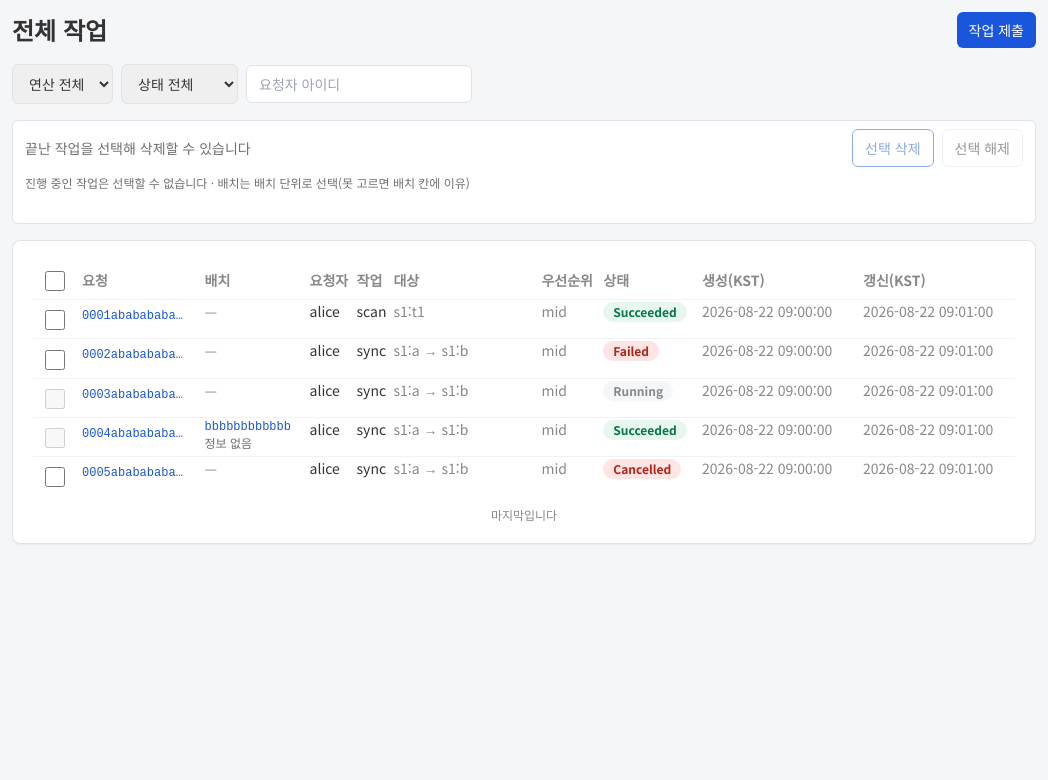
Test: 폴링 오류로 표가 내려갔다 돌아와도 전체 선택 칸의 indeterminate 가 살아 있다
Click the 3rd checkbox.
click(55, 360)  # box [45, 350, 65, 370]
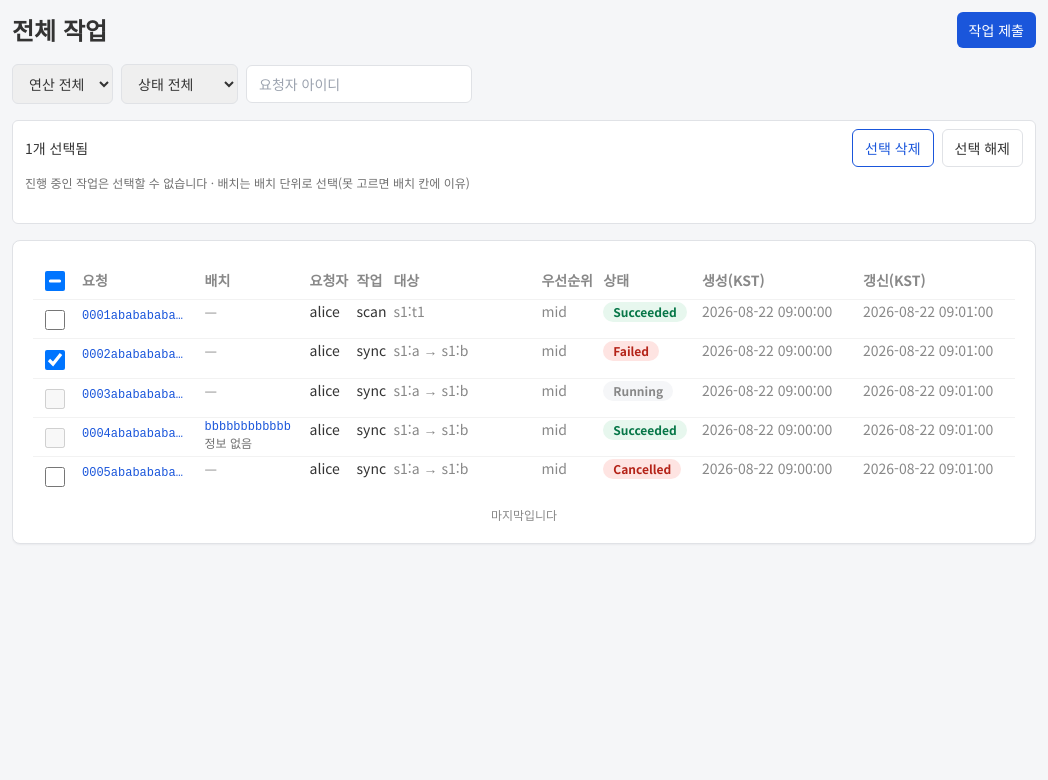
Expected: the checkbox named "불러온 단일 작업 중 삭제 가능한 것 전체 선택(배치 제외)" is shown, [45, 271, 65, 291]
Result: the element named "작업 일괄 처리" shows "1개 선택됨" at [25, 138, 88, 158]
